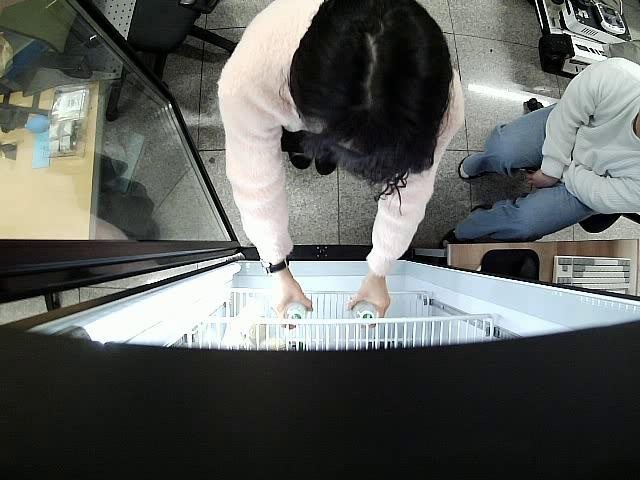18_trevi: (280, 302, 308, 329), (352, 301, 379, 326)
